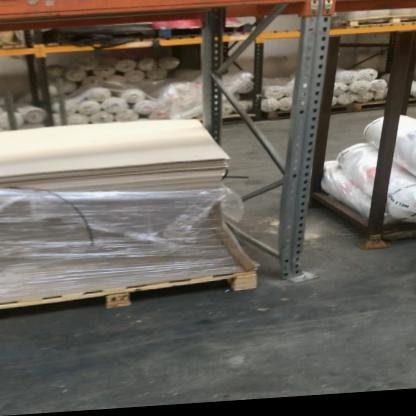vertical_damage: (268, 257, 318, 296)
